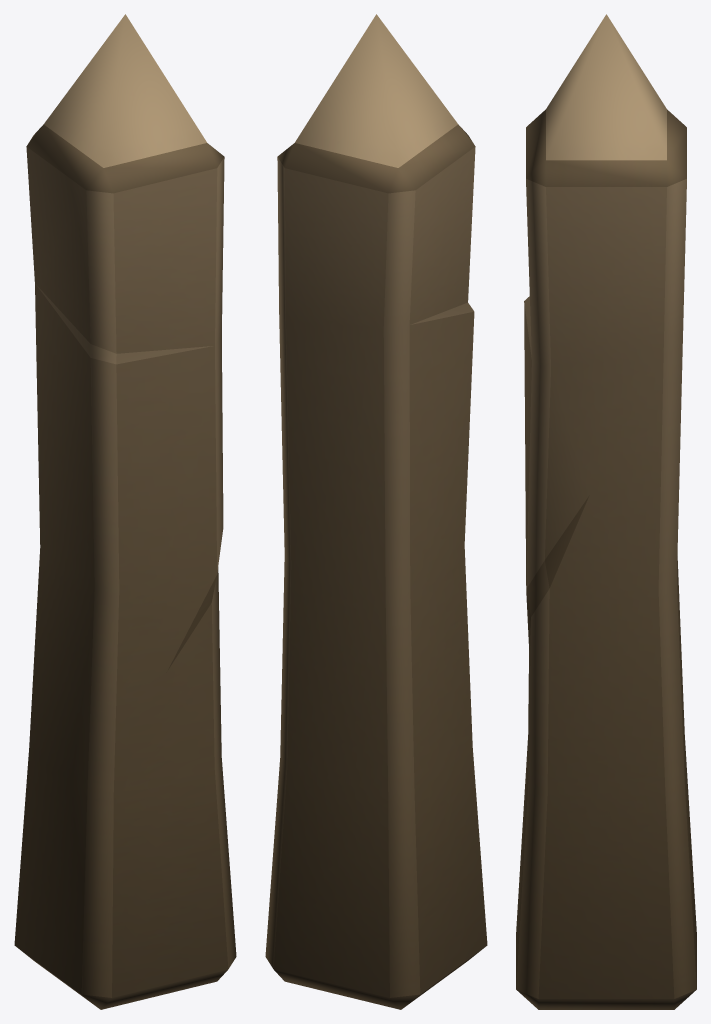
The model's file is palisade_pole.fbx.
3 renders of one model, left to right at view 1: azimuth 30°, elevation 25°; view 2: azimuth 150°, elevation 25°; view 3: azimuth 270°, elevation 25°, orthographic.
Parts seen in each view (by area): view 1: palisade_pole; view 2: palisade_pole; view 3: palisade_pole.
Part boxes in pixels (box(x1,y1,x2,y2)): palisade_pole: box(14, 14, 236, 1009); palisade_pole: box(265, 14, 487, 1009); palisade_pole: box(516, 14, 696, 1009).
Bounding box in the file's own units: 60.37 × 357 × 60.37.
